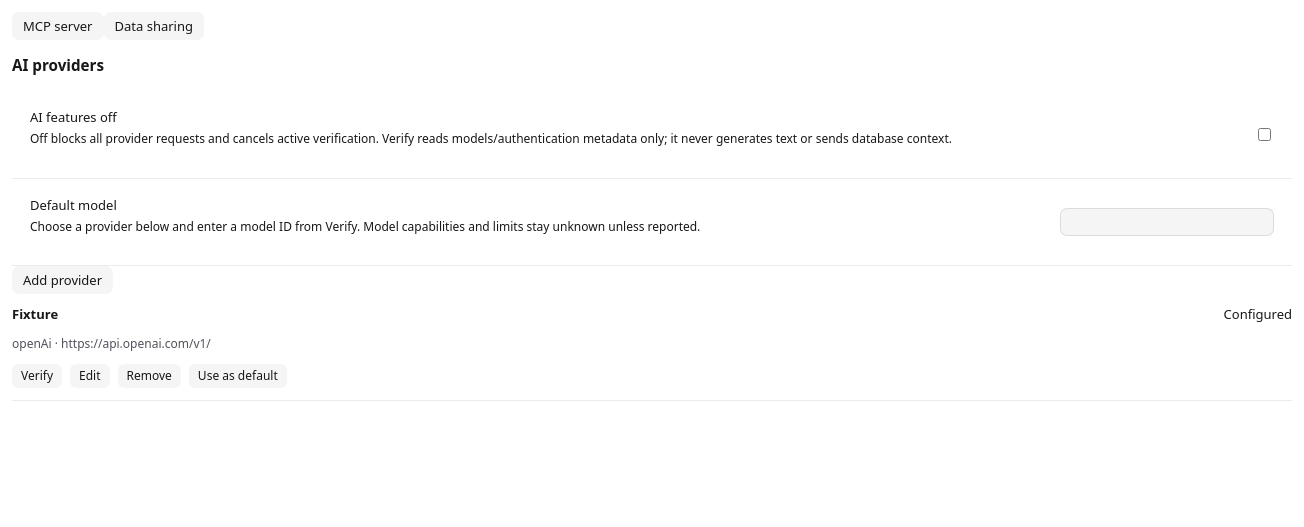
Test: shows configured, typed failure with retry-after, and unknown discovery states
Expected: the text "Configured" is shown, [1224,306,1292,324]
What coordinates should you click on to do the following:
click the button "Verify"
I would click on:
 (37, 376)
Its box is [12,364,62,388].
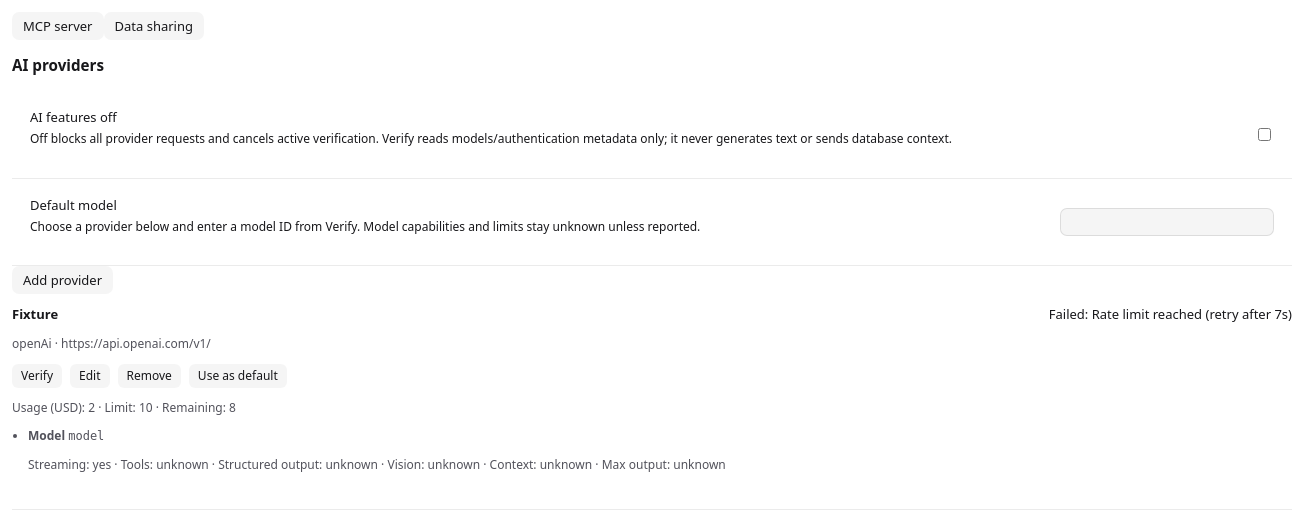
Expected: the text "Failed: Rate limit reached (retry after 7s)" is shown, [1049,306,1292,324]
What coordinates should you click on to do the following:
click the button "Verify"
I would click on:
 (37, 376)
Its box is [12,364,62,388].
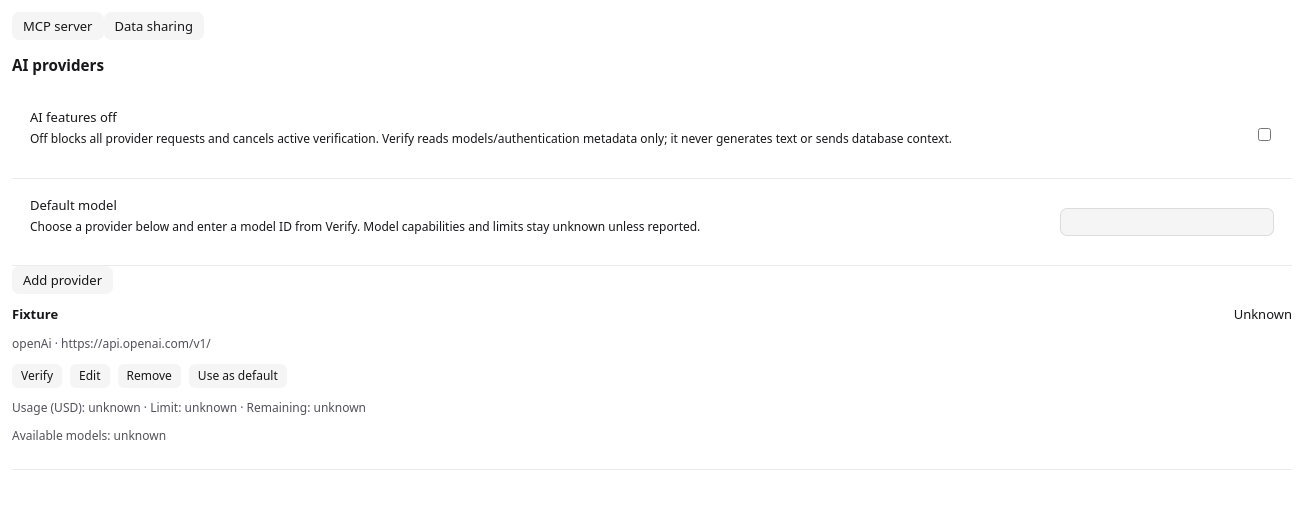
Expected: the text "Unknown" is shown, [1234,306,1292,324]
Expected: the text "Available models: unknown" is shown, [12,427,166,444]
